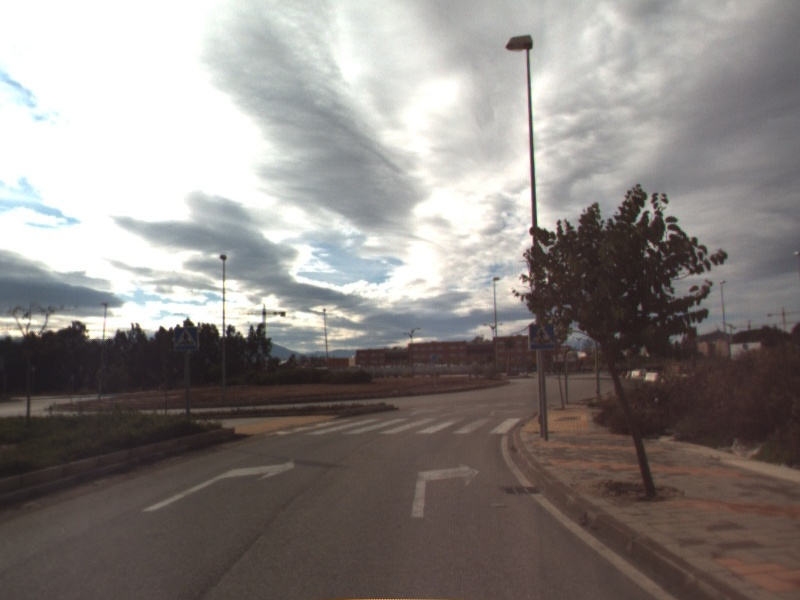RIGHT: (141, 456, 296, 513), (410, 459, 482, 520)
